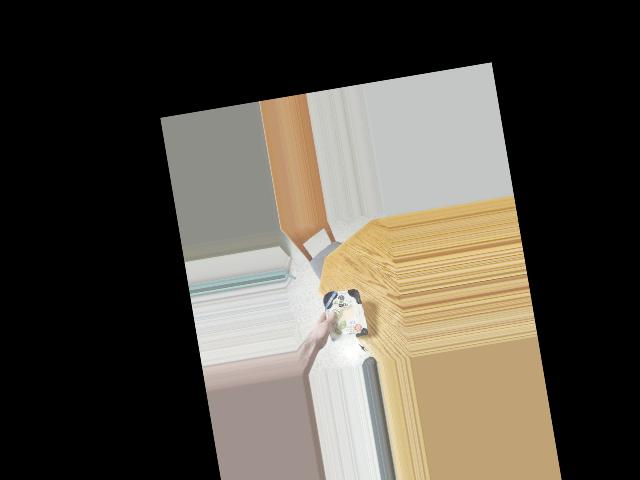cheese: (318, 275, 369, 352)
